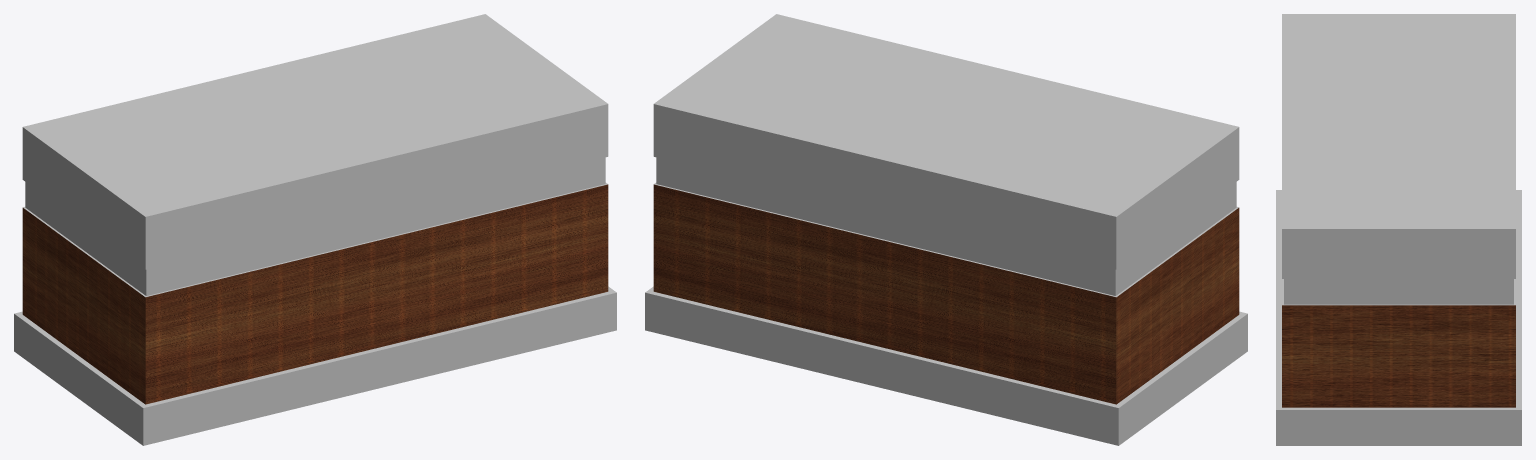
The model's file is standthing.fbx.
The picture shows the model from 3 angles, left to right: view 1: azimuth 30°, elevation 25°; view 2: azimuth 150°, elevation 25°; view 3: azimuth 270°, elevation 25°; orthographic projection. The views are drawn at different scales.
Visible parts, largest first — view 1: pCube39; view 2: pCube39; view 3: pCube39.
Boxes of the visible parts, left/top/right/bottom form: pCube39: left=14, top=14, right=616, bottom=445; pCube39: left=645, top=14, right=1247, bottom=445; pCube39: left=1276, top=14, right=1521, bottom=445.
Size of the model in its own units: 2.64 by 1.2 by 1.25.
